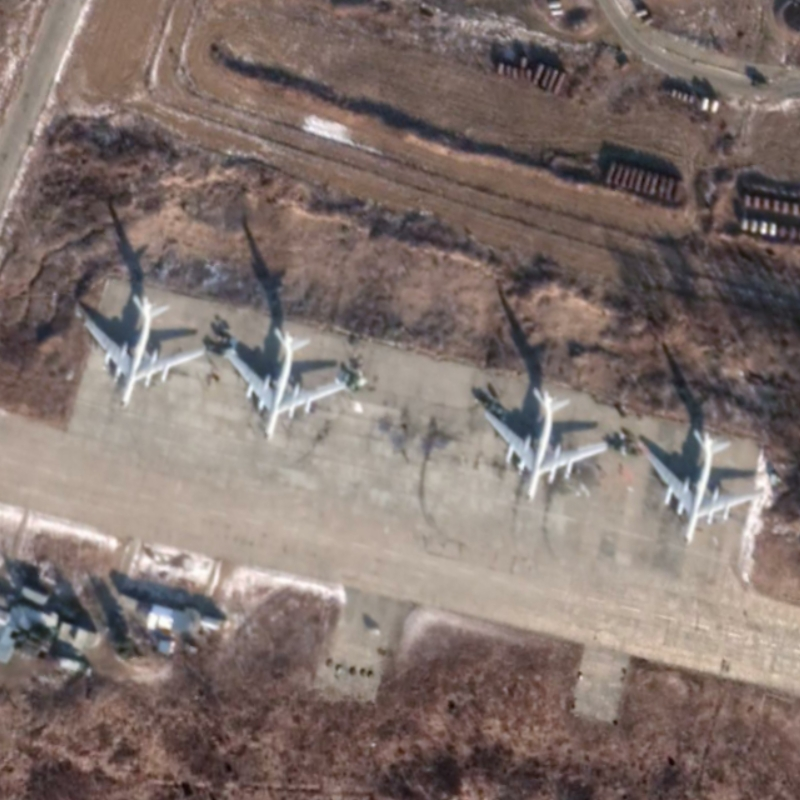A17: (75, 290, 209, 415), (220, 325, 353, 446), (480, 383, 610, 506), (644, 427, 764, 550)
